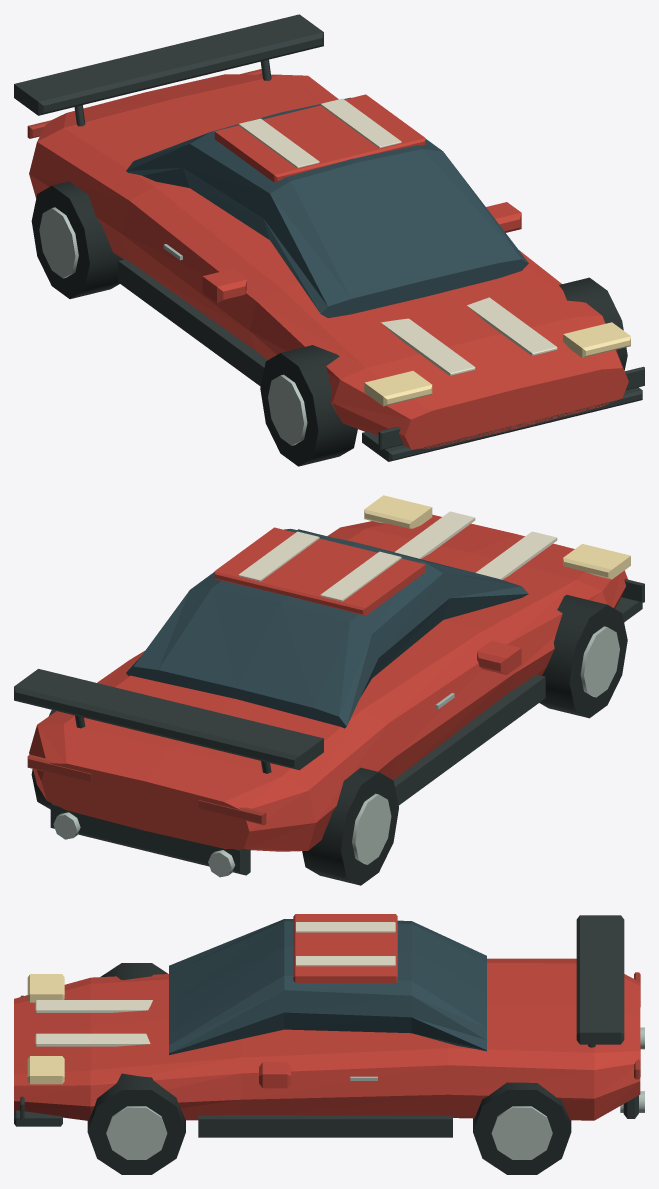
The model's file is sports-car.glb.
The picture shows the model from 3 angles, top to bottom: view 1: azimuth 30°, elevation 25°; view 2: azimuth 150°, elevation 25°; view 3: azimuth 270°, elevation 25°; orthographic projection. The views are drawn at different scales.
Visible parts, largest first — view 1: body_red, canopy_glass, wheels_rubber, rear_wing_dark, roof_red, racing_stripes_cream, side_skirts_dark, wheels_chrome, headlights_lamp, front_splitter_dark, mirrors_red, air_intakes_dark; view 2: body_red, canopy_glass, wheels_rubber, rear_wing_dark, roof_red, racing_stripes_cream, side_skirts_dark, wheels_chrome, diffuser_dark, headlights_lamp, tail_lights_tail, mirrors_red (+1 smaller); view 3: body_red, canopy_glass, wheels_rubber, rear_wing_dark, side_skirts_dark, roof_red, racing_stripes_cream, wheels_chrome, headlights_lamp, mirrors_red, front_splitter_dark.
Boxes of the visible parts, x1,y1,x2,y2 form: body_red: [29, 74, 628, 449]; canopy_glass: [126, 97, 528, 317]; wheels_rubber: [31, 181, 627, 466]; rear_wing_dark: [14, 14, 323, 115]; roof_red: [214, 94, 425, 182]; racing_stripes_cream: [238, 98, 557, 375]; side_skirts_dark: [118, 259, 266, 386]; wheels_chrome: [39, 207, 307, 445]; headlights_lamp: [364, 322, 630, 406]; front_splitter_dark: [362, 387, 642, 461]; mirrors_red: [202, 202, 521, 303]; air_intakes_dark: [378, 366, 644, 450]; body_red: [29, 514, 627, 851]; canopy_glass: [126, 528, 528, 728]; wheels_rubber: [31, 529, 627, 885]; rear_wing_dark: [14, 669, 323, 770]; roof_red: [214, 527, 425, 615]; racing_stripes_cream: [238, 511, 557, 601]; side_skirts_dark: [393, 674, 545, 805]; wheels_chrome: [352, 626, 619, 864]; diffuser_dark: [50, 803, 250, 875]; headlights_lamp: [364, 495, 630, 579]; tail_lights_tail: [27, 754, 266, 825]; mirrors_red: [477, 640, 521, 674]; body_red: [14, 958, 640, 1120]; canopy_glass: [169, 919, 486, 1054]; wheels_rubber: [87, 963, 571, 1174]; rear_wing_dark: [576, 915, 624, 1044]; side_skirts_dark: [198, 1115, 452, 1137]; roof_red: [293, 914, 397, 982]; racing_stripes_cream: [35, 922, 395, 1046]; wheels_chrome: [106, 1106, 552, 1159]; headlights_lamp: [27, 974, 64, 1084]; mirrors_red: [259, 1062, 290, 1088]; front_splitter_dark: [14, 1110, 62, 1126].
Size of the model in its own units: 1.17 by 0.7038 by 2.4.
